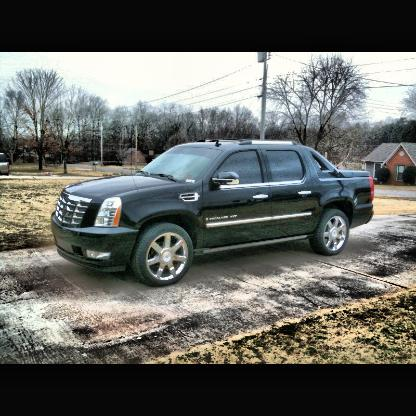Cadillac Escalade EXT Crew Cab 2007: (54, 138, 376, 289)
